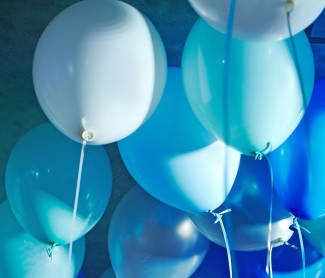Balloon: (32, 1, 167, 145), (184, 19, 315, 157), (6, 127, 112, 247), (109, 186, 210, 278)
